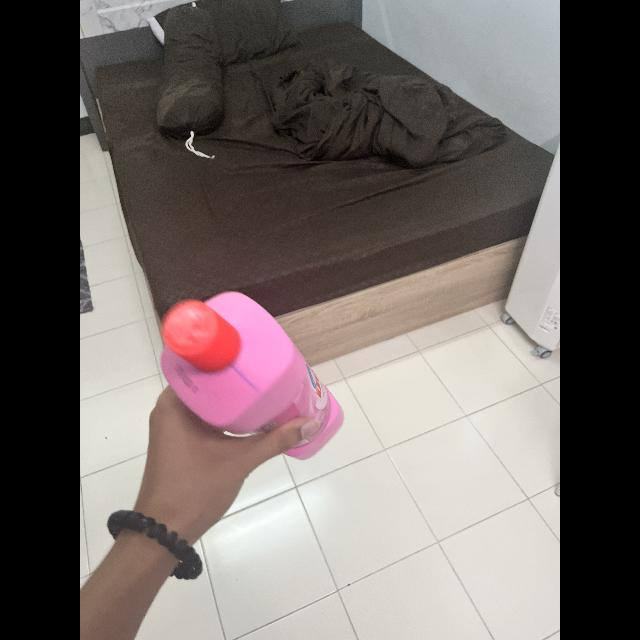chemical_plastic_bottle: (155, 291, 347, 464)
